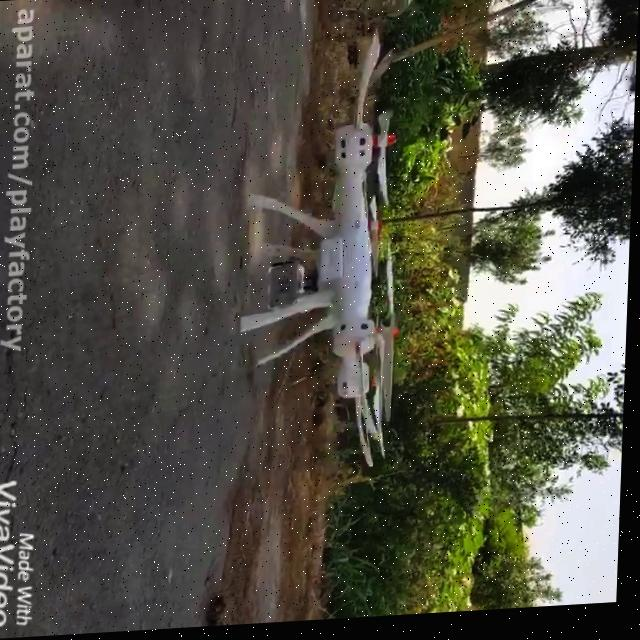drone: (234, 29, 414, 480)
